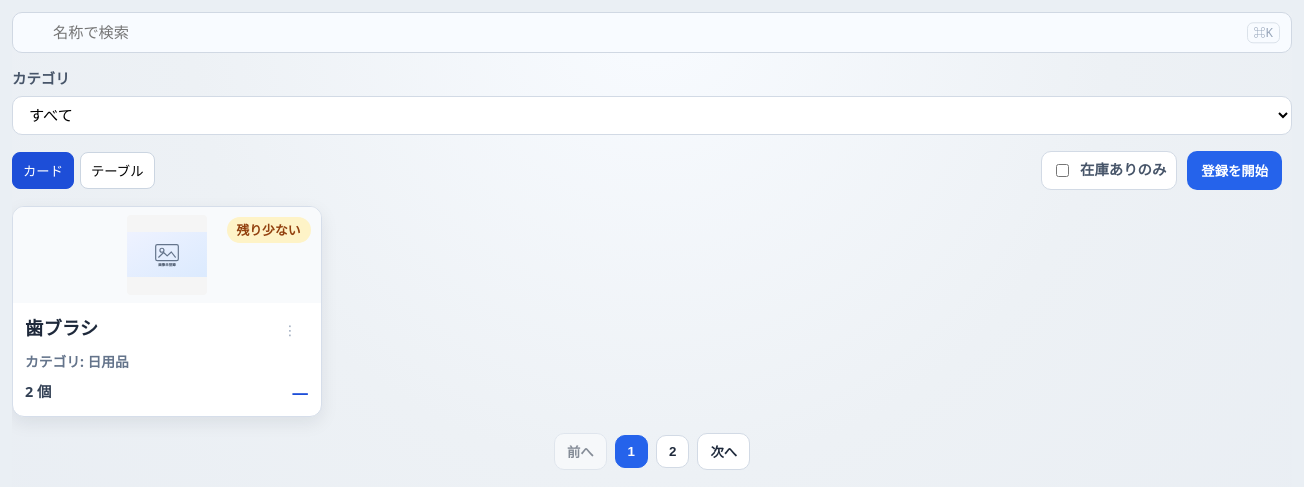
Test: ItemListPage › 検索語をサーバーへ渡して全件から絞り込む
Step 1. Type "ライト" into the search field with placeholder "名称で検索" → (652, 32), box [12,12,1292,53]
Wait 300 ms
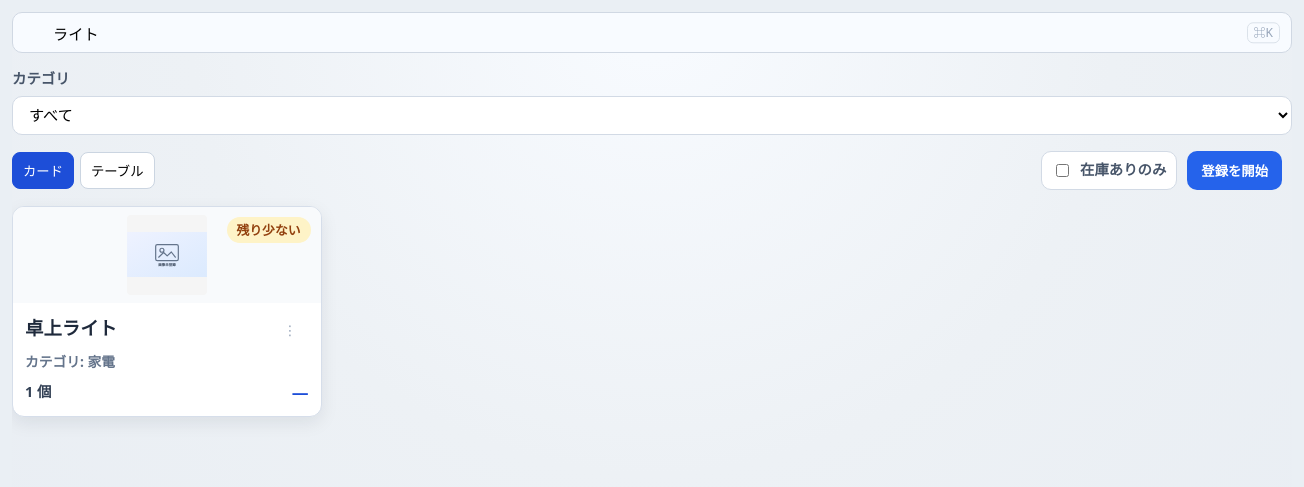
Now the text "卓上ライト" is shown, box [25,315,117,342]
Now the text "歯ブラシ" is gone
